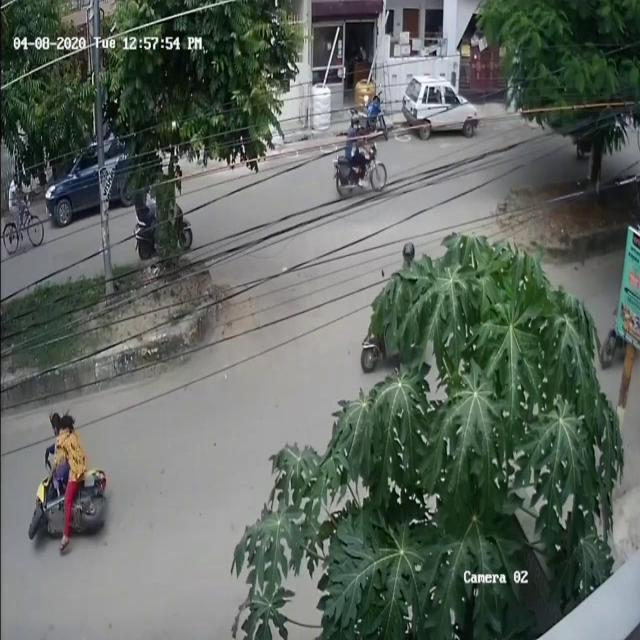accident: (15, 401, 115, 553)
